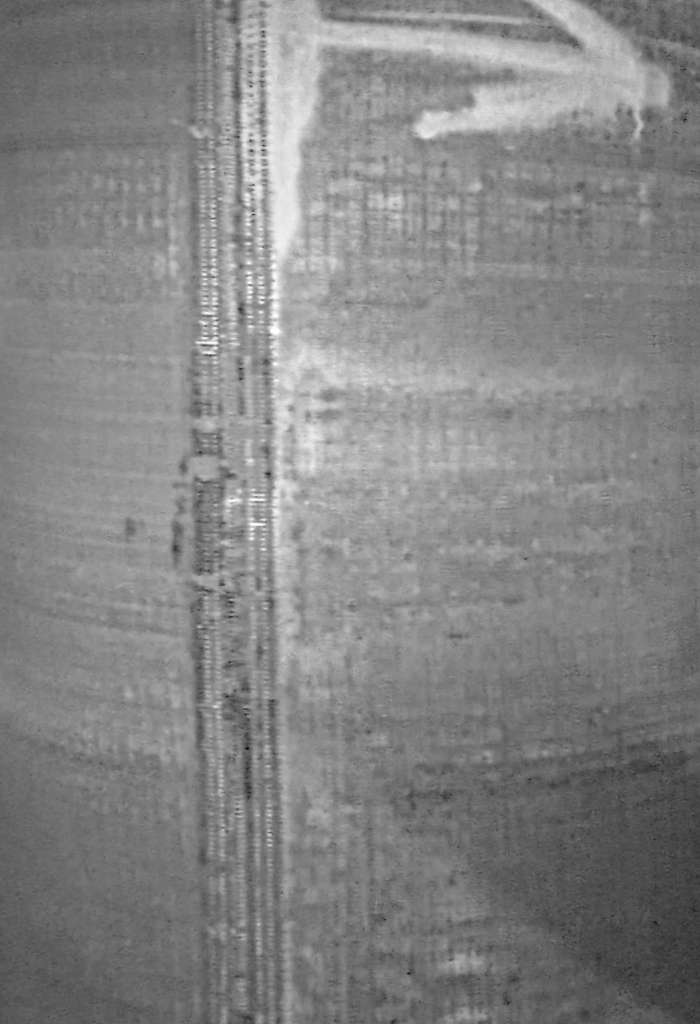splice: (174, 1, 286, 1024)
